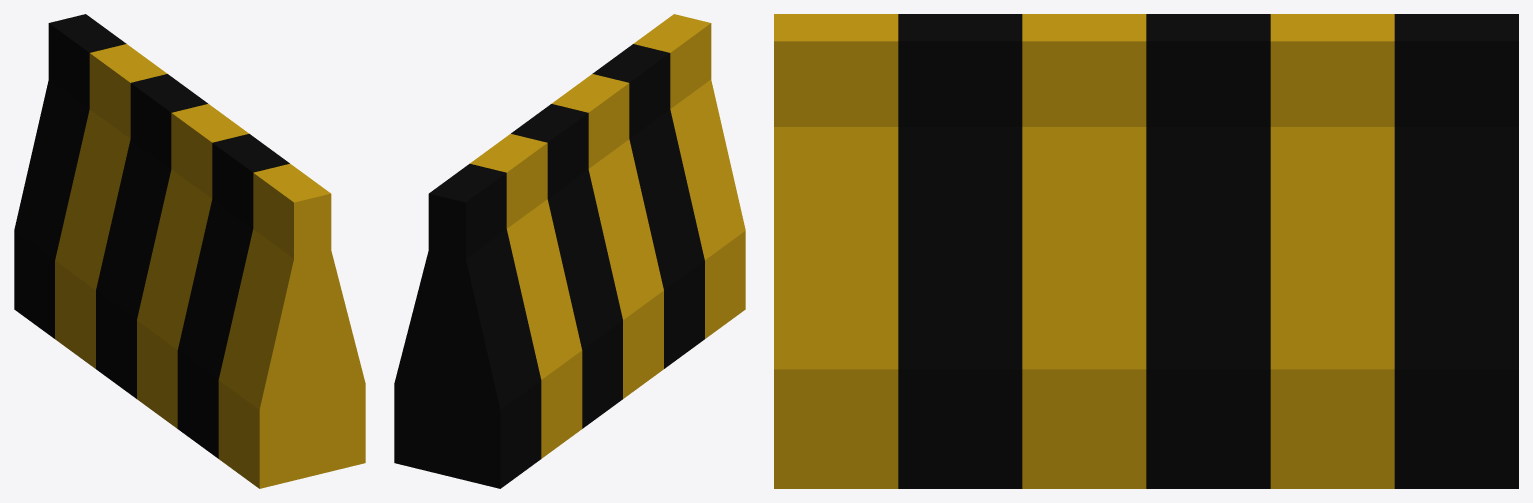
The model's file is Barrier.obj.
3 renders of one model, left to right at view 1: azimuth 30°, elevation 25°; view 2: azimuth 150°, elevation 25°; view 3: azimuth 270°, elevation 25°, orthographic. The views are drawn at different scales.
Parts seen in each view (by area): view 1: Barrier|concrete.001; view 2: Barrier|concrete.001; view 3: Barrier|concrete.001.
Boxes of the visible parts, left/top/right/bottom form: Barrier|concrete.001: left=14, top=14, right=365, bottom=488; Barrier|concrete.001: left=394, top=14, right=745, bottom=488; Barrier|concrete.001: left=774, top=14, right=1518, bottom=488.
Size of the model in its own units: 0.45 by 1.12 by 1.8.
